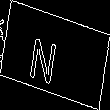N_N: (39, 26, 71, 84)
